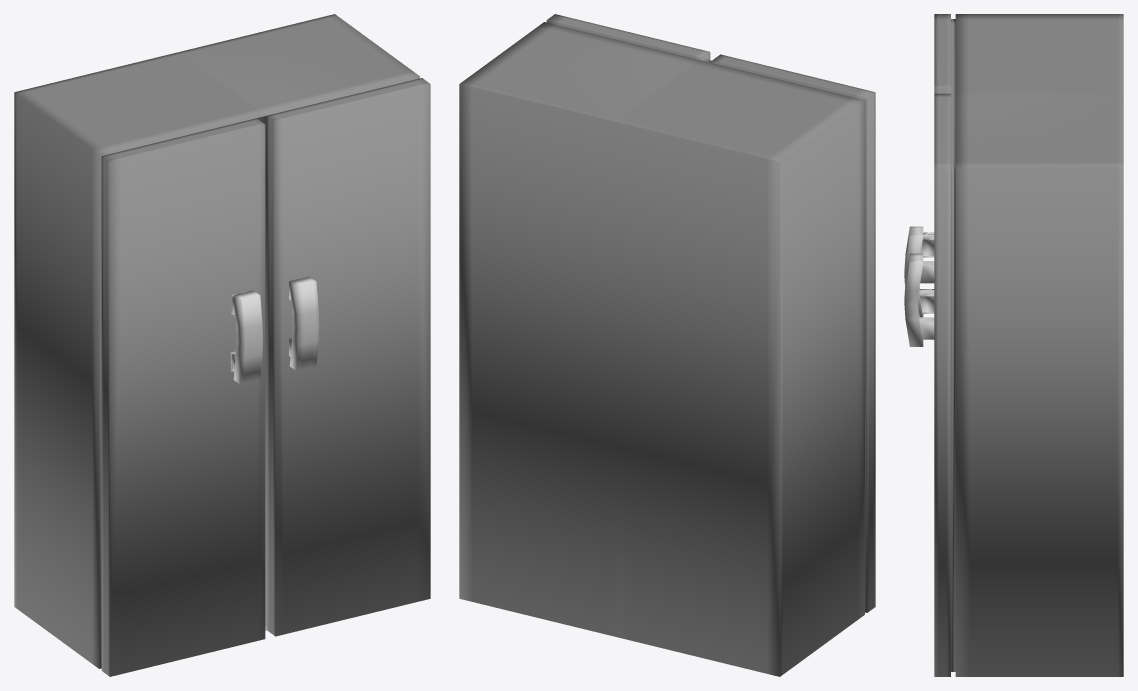
The model's file is KS_Refrigerator.fbx.
3 renders of one model, left to right at view 1: azimuth 30°, elevation 25°; view 2: azimuth 150°, elevation 25°; view 3: azimuth 270°, elevation 25°, orthographic.
Visible parts, largest first — view 1: KS_Refrigerator; view 2: KS_Refrigerator; view 3: KS_Refrigerator.
Boxes of the visible parts, x1=… form: KS_Refrigerator: x1=14, y1=14, x2=430, y2=676; KS_Refrigerator: x1=459, y1=14, x2=875, y2=676; KS_Refrigerator: x1=904, y1=14, x2=1123, y2=676.
Size of the model in its own units: 200 by 307 by 120.
